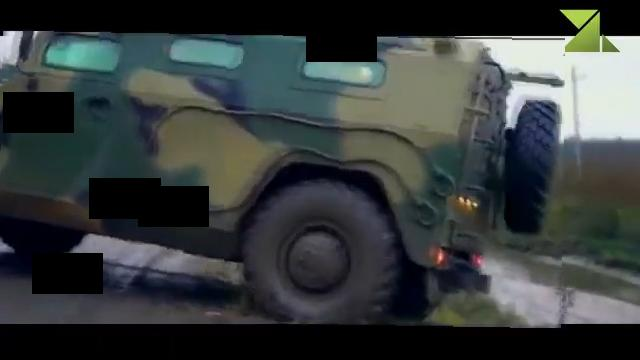MIL_HMMWV: (0, 31, 564, 326)
